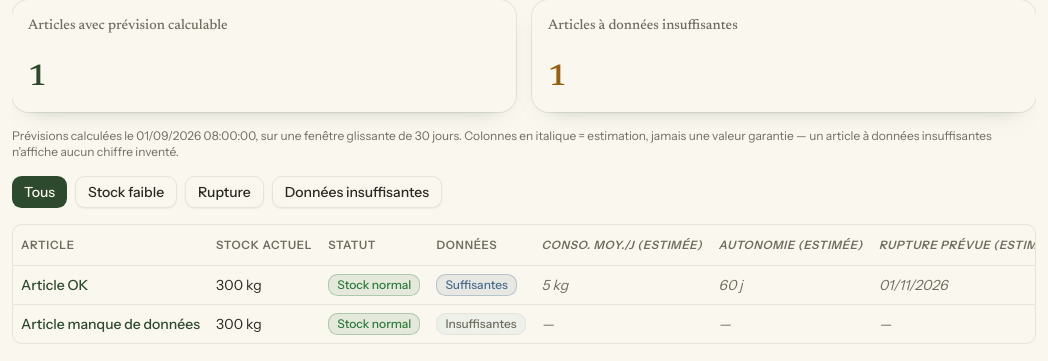
StockForecastReport › filtre "Données insuffisantes" au clic
The width and height of the screenshot is (1048, 361).
Click the button "Données insuffisantes" at (357, 192), box x1=272 y1=176 x2=442 y2=208
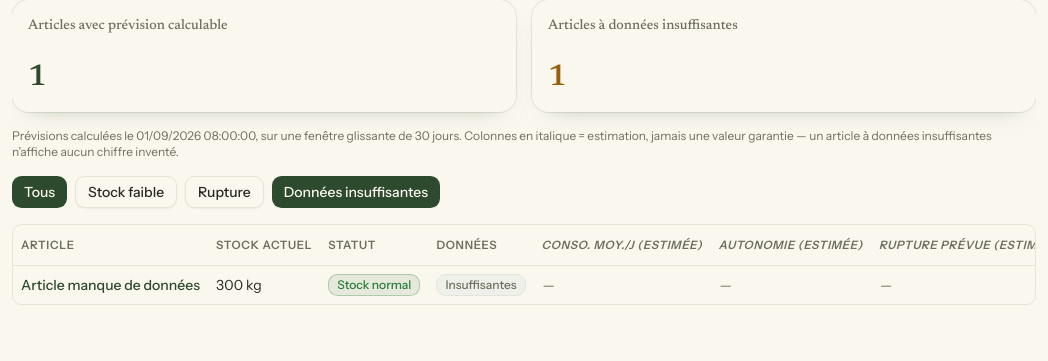
Expected: the link "Article manque de données" is shown, x1=21 y1=276 x2=200 y2=294
Expected: the link "Article OK" is gone
